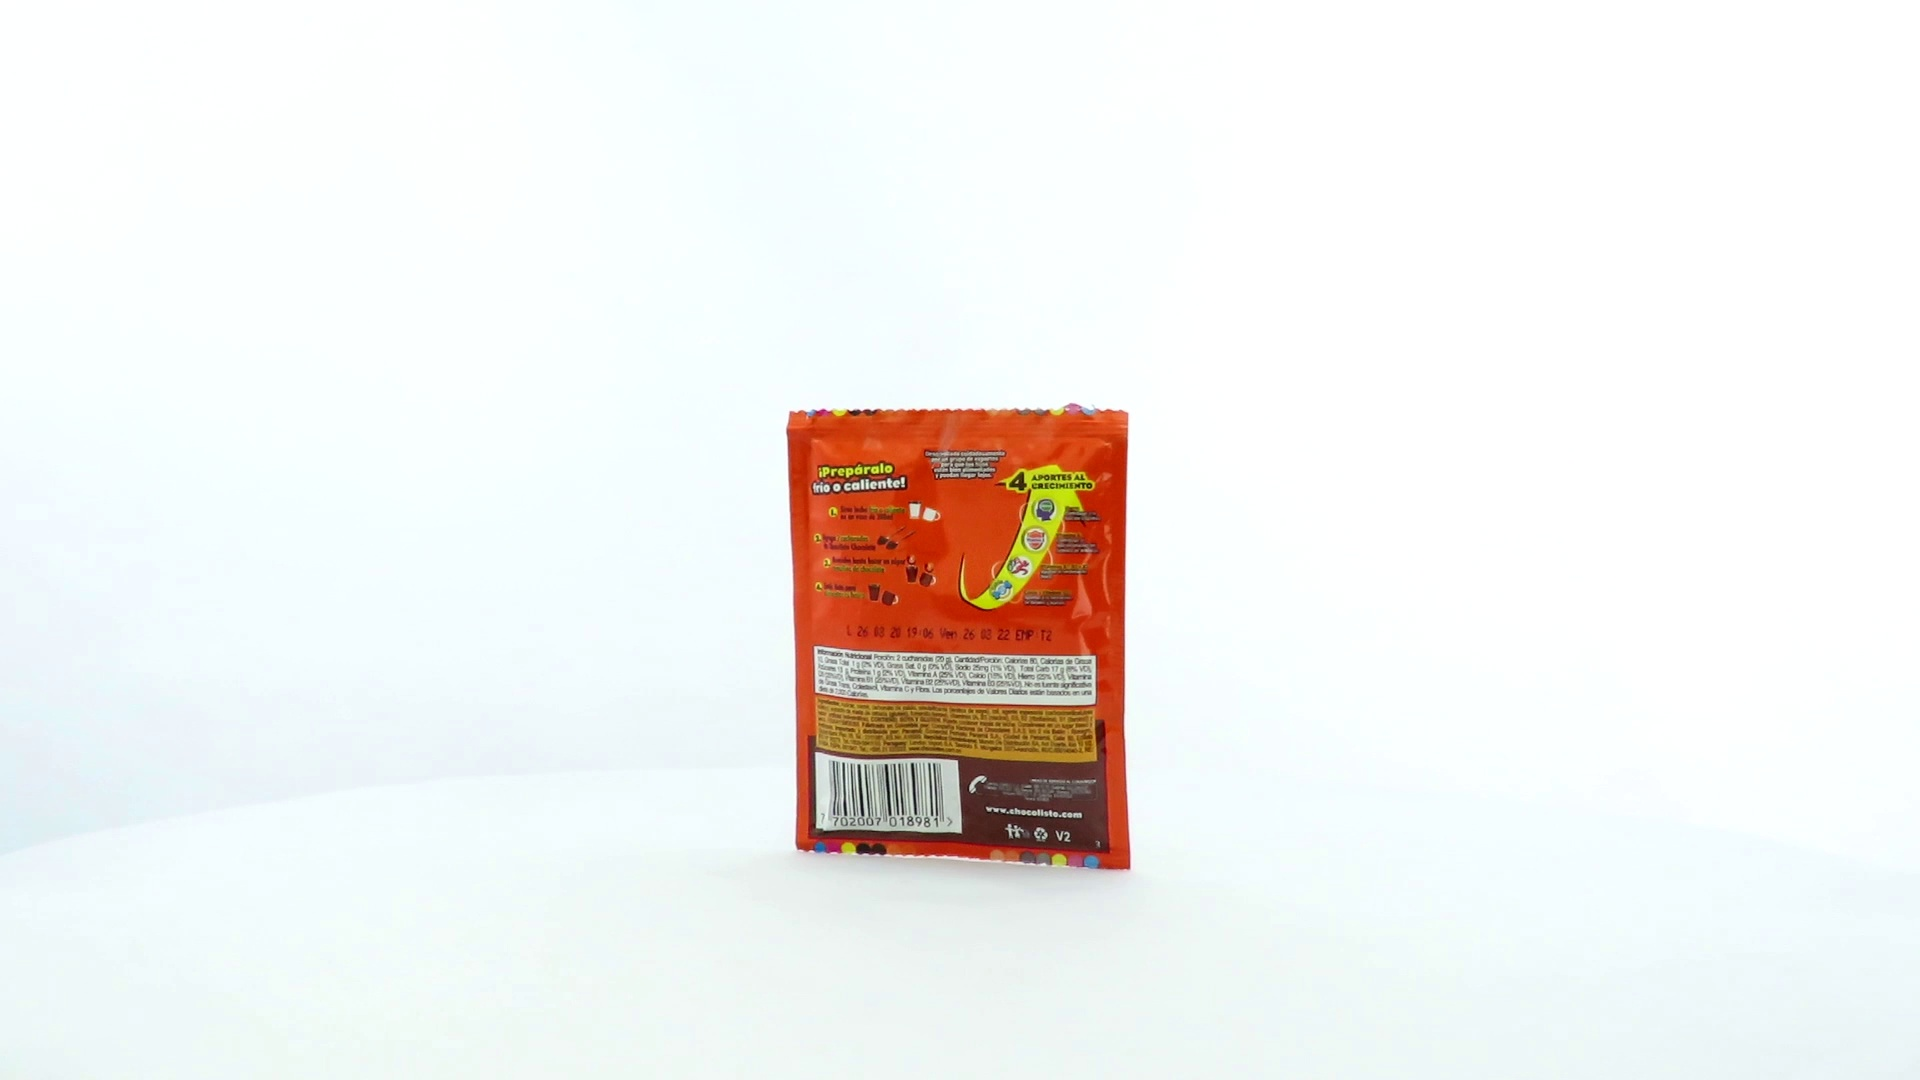COL0170103SOB02000: (781, 398, 1137, 876)
